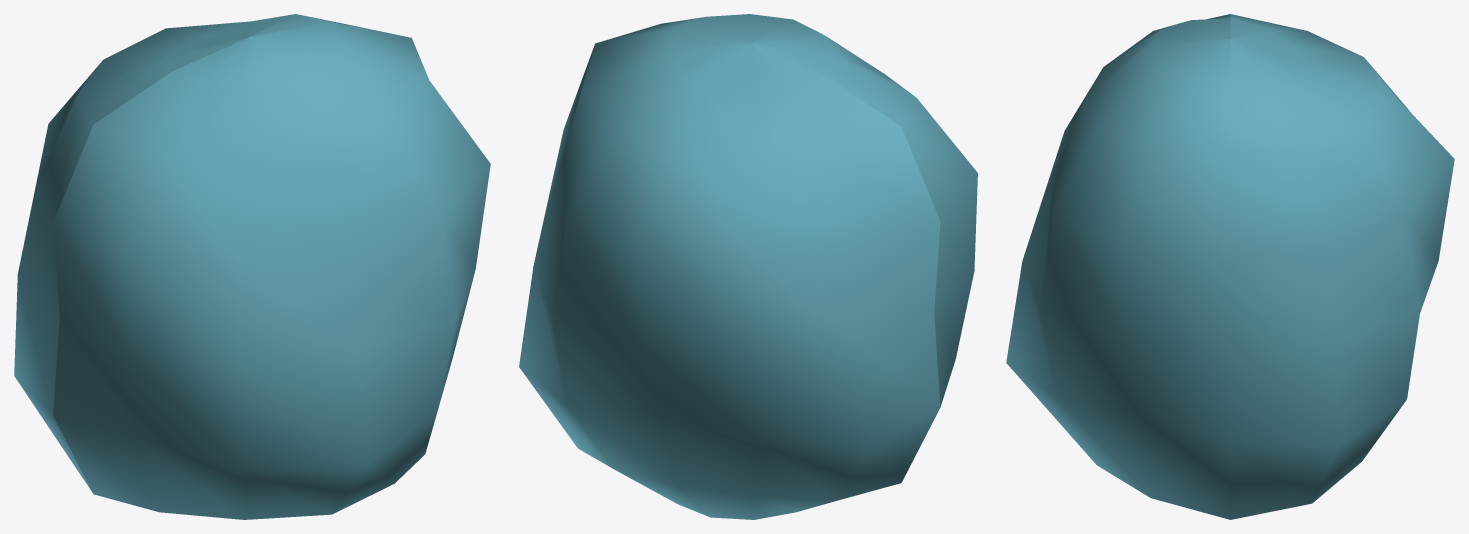
File: left_lunate.glb
The picture shows the model from 3 angles, left to right: view 1: azimuth 30°, elevation 25°; view 2: azimuth 150°, elevation 25°; view 3: azimuth 270°, elevation 25°; orthographic projection. The views are drawn at different scales.
Visible parts, largest first — view 1: left_lunate:body; view 2: left_lunate:body; view 3: left_lunate:body.
Boxes of the visible parts, box(x1,y1,x2,y2) form: left_lunate:body: box(14, 14, 490, 519); left_lunate:body: box(519, 14, 977, 519); left_lunate:body: box(1006, 14, 1454, 519).
Size of the model in its own units: 0.0315 by 0.036 by 0.033.
